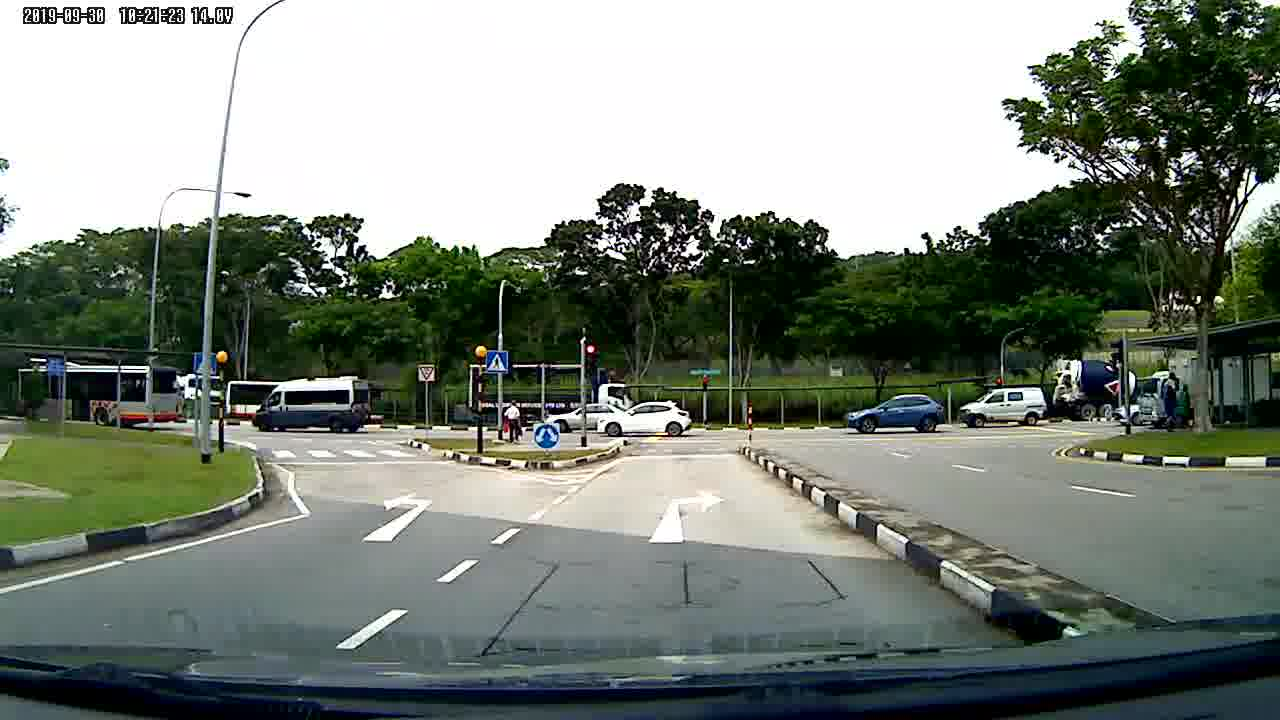bus: (9, 356, 182, 433)
car: (842, 394, 950, 436), (599, 401, 695, 443), (547, 403, 629, 434)
